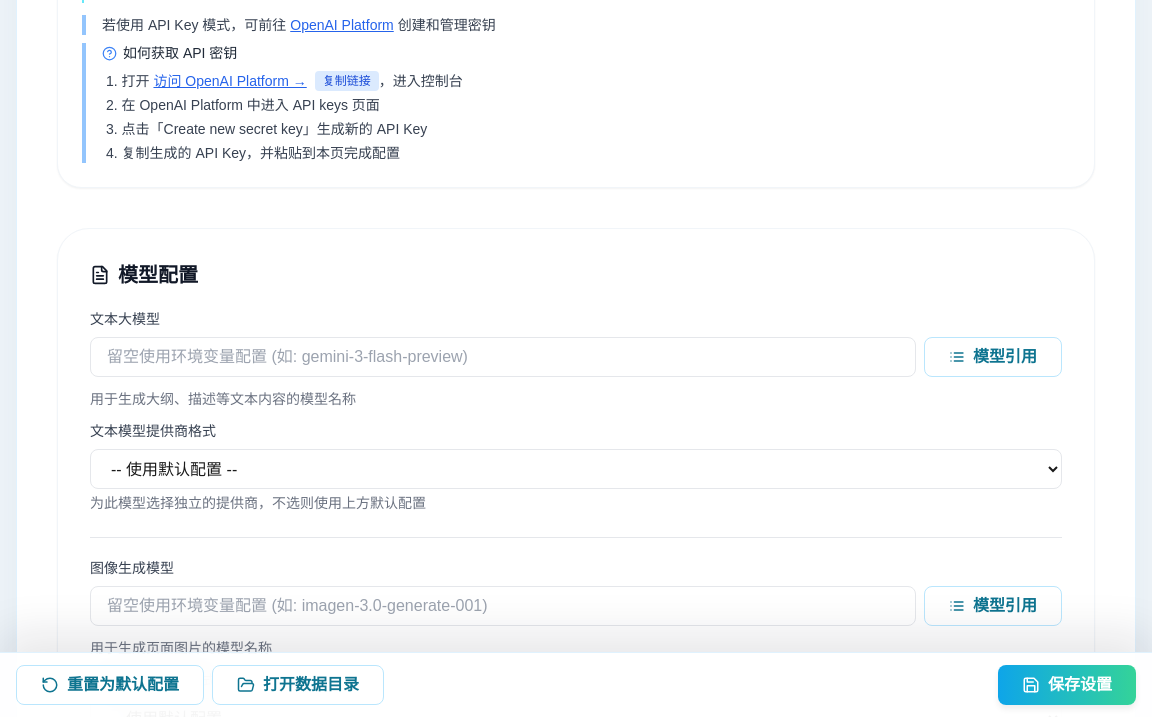
Test: Settings OpenAI entry › shows provider model lookup errors instead of a raw 502 message
(page scrolled)
Click the 1st button "模型引用". click: click(993, 357)
box: top-left (924, 337), bottom-right (1062, 377)
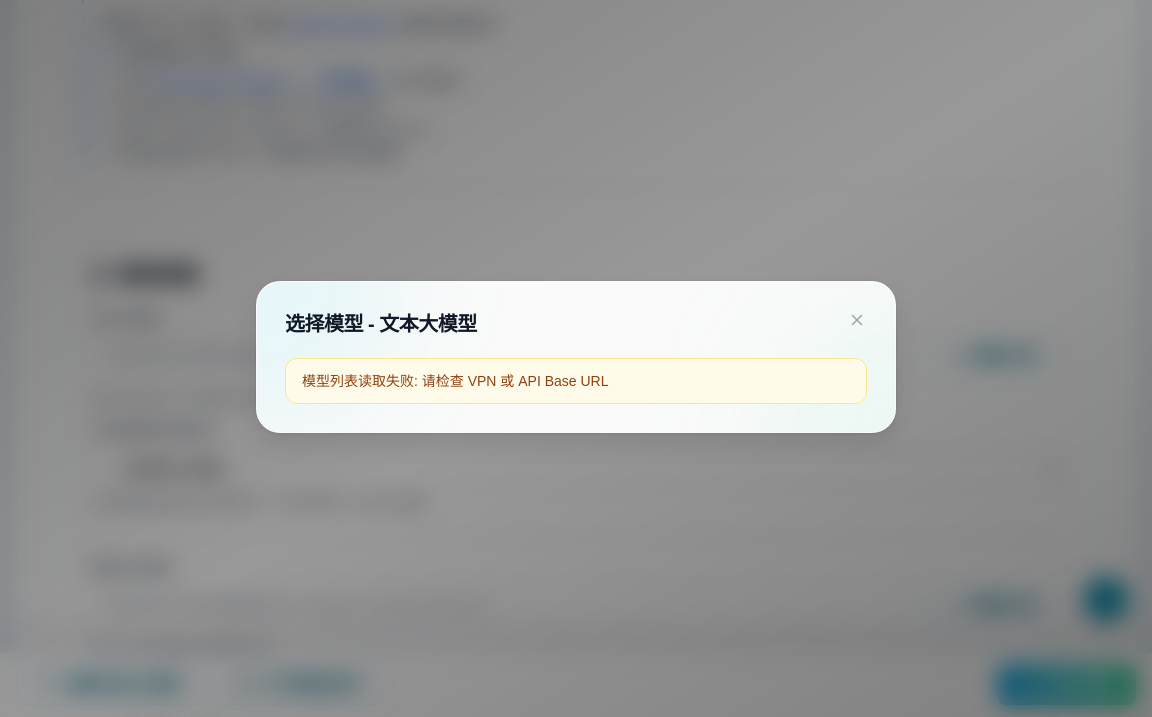
Expected: the text "模型列表读取失败: 请检查 VPN 或 API Base URL" is shown, top-left (285, 358), bottom-right (867, 404)
